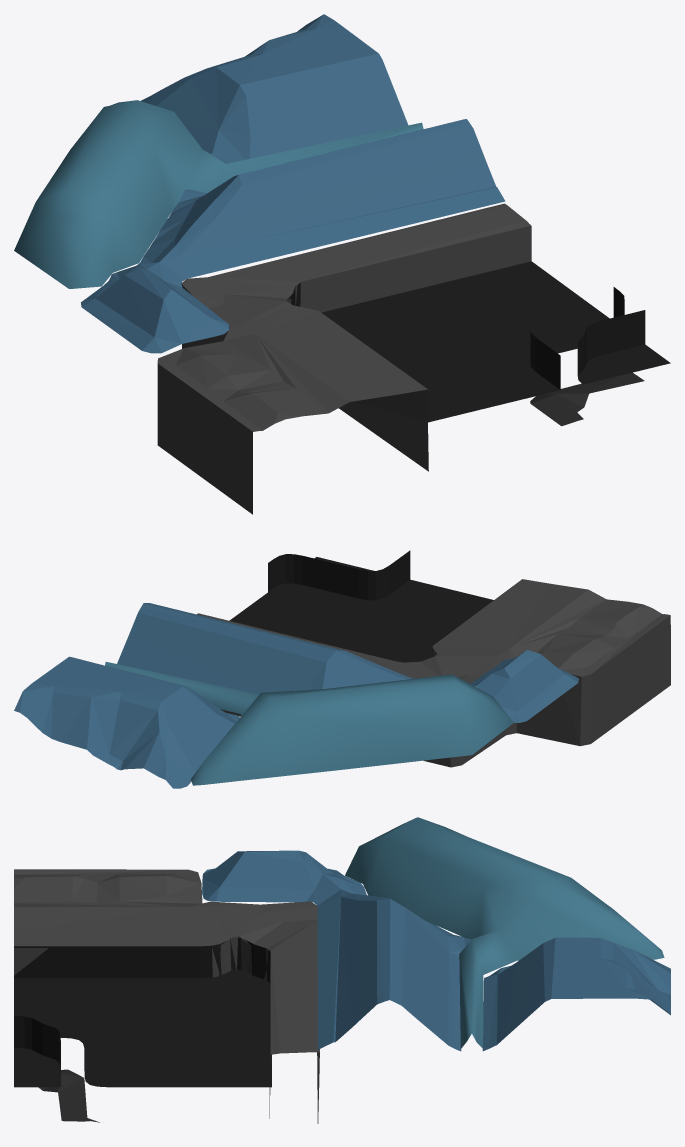
Rendered from newsho-39.glb.
3 views of the same model, one above another, from view 1: azimuth 30°, elevation 25°; view 2: azimuth 150°, elevation 25°; view 3: azimuth 270°, elevation 25° (orthographic). The views are drawn at different scales.
Parts seen in each view (by area): view 1: newsho-39; view 2: newsho-39; view 3: newsho-39.
Part boxes in pixels (bbox=[...]): newsho-39: bbox=[14, 14, 670, 514]; newsho-39: bbox=[14, 550, 670, 788]; newsho-39: bbox=[14, 817, 670, 1123].
Bounding box in the file's own units: 1.59 × 0.5644 × 2.33.
